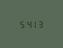five: (18, 20, 23, 28)
four: (24, 20, 29, 28)
one: (30, 20, 35, 28)
three: (36, 20, 41, 28)
